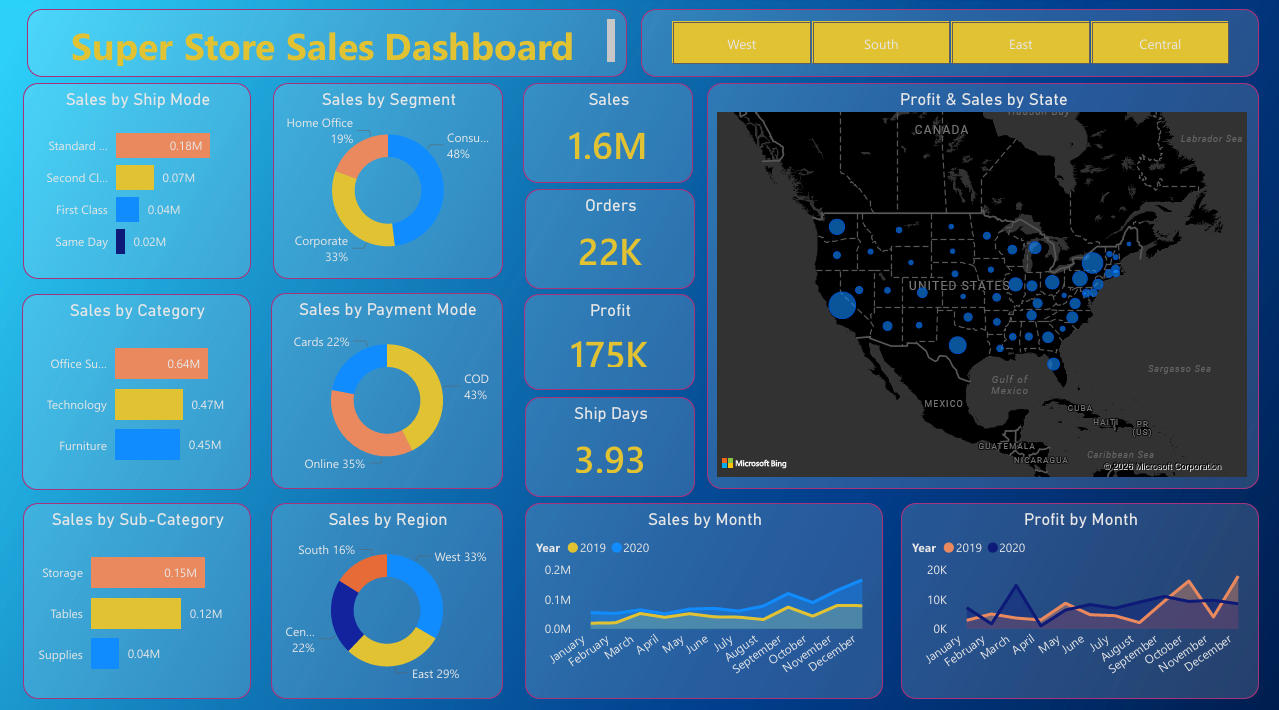

Layout of this report page (visuals, bound fields, positions):
{"tool":"powerbi","page":{"name":"Page 1","canvas":[1280,720],"ordinal":0},"visuals":[{"type":"clusteredBarChart","title":"Sales by Category","fields":{"Category":["SuperStore_Sales_Dataset.Category"],"Y":["Sum(SuperStore_Sales_Dataset.Sales)"]},"box":[21.2,292.5,228.8,196.2],"z":0},{"type":"clusteredBarChart","title":"Sales by Sub-Category","fields":{"Y":["Sum(SuperStore_Sales_Dataset.Sales)"],"Category":["SuperStore_Sales_Dataset.Sub-Category"]},"box":[22,502,228,196],"z":1000},{"type":"clusteredBarChart","title":"Sales by Ship Mode","fields":{"Y":["Sum(SuperStore_Sales_Dataset.Sales)"],"Category":["SuperStore_Sales_Dataset.Ship Mode"]},"box":[22,82,228,196],"z":2000},{"type":"areaChart","title":"Sales by Month","fields":{"Y":["Sum(SuperStore_Sales_Dataset.Sales)"],"Category":["SuperStore_Sales_Dataset.Order Date.Variation.Date Hierarchy.Month"],"Series":["SuperStore_Sales_Dataset.Order Date.Variation.Date Hierarchy.Year"]},"box":[524,502,358,196],"z":3000},{"type":"areaChart","title":"Profit by Month","fields":{"Category":["SuperStore_Sales_Dataset.Order Date.Variation.Date Hierarchy.Month"],"Series":["SuperStore_Sales_Dataset.Order Date.Variation.Date Hierarchy.Year"],"Y":["Sum(SuperStore_Sales_Dataset.Profit)"]},"box":[900,502,358,196],"z":4000},{"type":"map","title":"Profit & Sales by State","fields":{"Category":["SuperStore_Sales_Dataset.State"],"Size":["Sum(SuperStore_Sales_Dataset.Sales)"]},"box":[706,82,552,406],"z":5000},{"type":"donutChart","title":"Sales by Segment","fields":{"Category":["SuperStore_Sales_Dataset.Segment"],"Y":["Sum(SuperStore_Sales_Dataset.Sales)"]},"box":[272,82,230,196],"z":6000},{"type":"donutChart","title":"Sales by Region","fields":{"Y":["Sum(SuperStore_Sales_Dataset.Sales)"],"Category":["SuperStore_Sales_Dataset.Region"]},"box":[270,502,232,196],"z":7000},{"type":"donutChart","title":"Sales by Payment Mode","fields":{"Y":["Sum(SuperStore_Sales_Dataset.Sales)"],"Category":["SuperStore_Sales_Dataset.Payment Mode"]},"box":[270,292,232,196],"z":8000},{"type":"slicer","fields":{"Values":["SuperStore_Sales_Dataset.Region"]},"box":[640,8,618,68],"z":9000},{"type":"cardVisual","title":"Sales","fields":{"Data":["Sum(SuperStore_Sales_Dataset.Sales)"]},"box":[522,82,170,100],"z":10000},{"type":"cardVisual","title":"Ship Days","fields":{"Data":["Avg(SuperStore_Sales_Dataset.Avgdelivery)"]},"box":[524,396,170,100],"z":11000},{"type":"cardVisual","title":"Profit","fields":{"Data":["Sum(SuperStore_Sales_Dataset.Profit)"]},"box":[523.5,292.9,170.1,96.4],"z":12000},{"type":"cardVisual","title":"Orders","fields":{"Data":["Sum(SuperStore_Sales_Dataset.Quantity)"]},"box":[524,188,170,100],"z":13000},{"type":"textbox","box":[26,8,600,68],"z":14000}]}

Visuals, with their boxes in screenshot pixels (x1, y1, x2, y2), scaled from the page's 1280x720 canvas onto the 1279x710 screenshot:
"Sales by Category" clusteredBarChart: BBox(21, 288, 250, 482)
"Sales by Sub-Category" clusteredBarChart: BBox(22, 495, 250, 688)
"Sales by Ship Mode" clusteredBarChart: BBox(22, 81, 250, 274)
"Sales by Month" areaChart: BBox(524, 495, 881, 688)
"Profit by Month" areaChart: BBox(899, 495, 1257, 688)
"Profit & Sales by State" map: BBox(705, 81, 1257, 481)
"Sales by Segment" donutChart: BBox(272, 81, 502, 274)
"Sales by Region" donutChart: BBox(270, 495, 502, 688)
"Sales by Payment Mode" donutChart: BBox(270, 288, 502, 481)
slicer - SuperStore_Sales_Dataset.Region: BBox(640, 8, 1257, 75)
"Sales" cardVisual: BBox(522, 81, 691, 179)
"Ship Days" cardVisual: BBox(524, 390, 693, 489)
"Profit" cardVisual: BBox(523, 289, 693, 384)
"Orders" cardVisual: BBox(524, 185, 693, 284)
textbox: BBox(26, 8, 626, 75)
